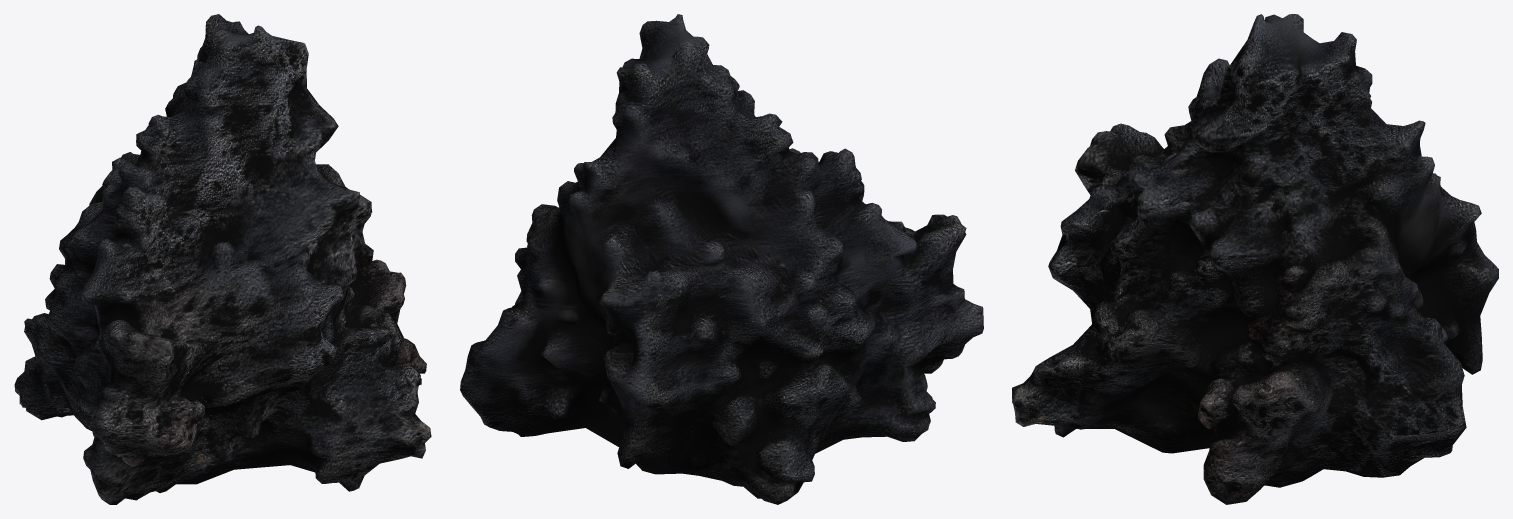
Rendered from selected.fbx.
3 views of the same model, side by side, from view 1: azimuth 30°, elevation 25°; view 2: azimuth 150°, elevation 25°; view 3: azimuth 270°, elevation 25° (orthographic). The views are drawn at different scales.
Visible parts, largest first — view 1: tripo_node_327fb563-e63a-4b69-9fb8-77d81c86baaa; view 2: tripo_node_327fb563-e63a-4b69-9fb8-77d81c86baaa; view 3: tripo_node_327fb563-e63a-4b69-9fb8-77d81c86baaa.
Part boxes in pixels (left/top/right/bottom): tripo_node_327fb563-e63a-4b69-9fb8-77d81c86baaa: left=14, top=14, right=431, bottom=504; tripo_node_327fb563-e63a-4b69-9fb8-77d81c86baaa: left=460, top=14, right=983, bottom=504; tripo_node_327fb563-e63a-4b69-9fb8-77d81c86baaa: left=1012, top=14, right=1498, bottom=504.
Bounding box in the file's own units: 0.9668 × 0.9746 × 0.998.
1 material, 1 textured.
